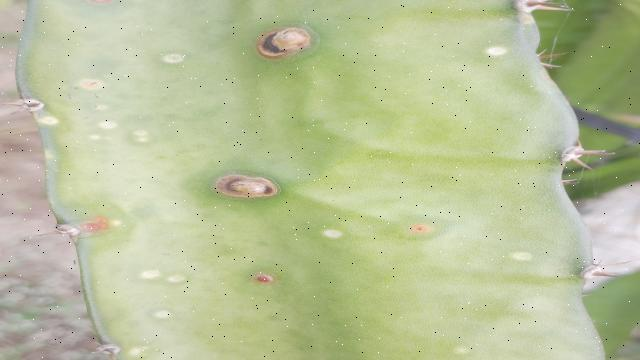stemcanker: (208, 170, 285, 203), (254, 22, 313, 61), (70, 212, 117, 239), (405, 218, 436, 238), (249, 269, 278, 290), (73, 78, 108, 93)
